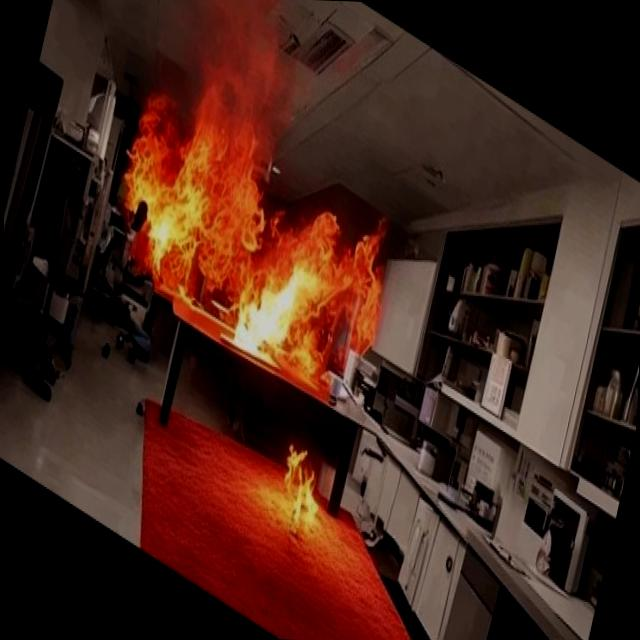fire: (90, 0, 431, 463)
